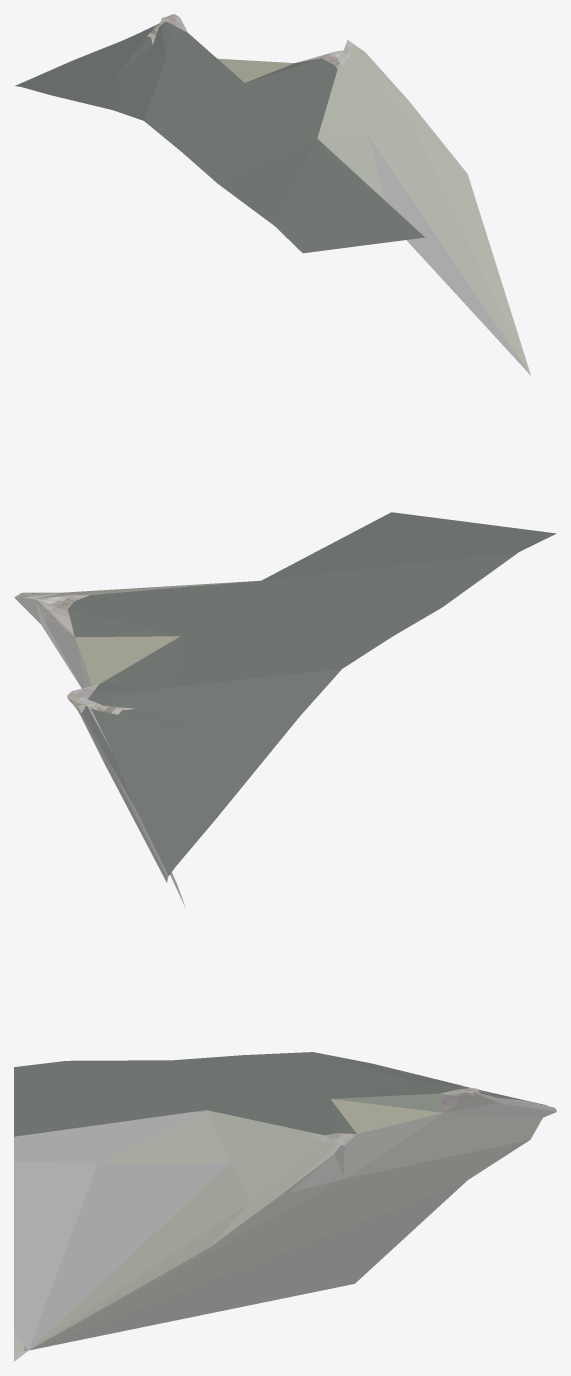
3 views of the same model, one above another, from view 1: azimuth 30°, elevation 25°; view 2: azimuth 150°, elevation 25°; view 3: azimuth 270°, elevation 25° (orthographic). The views are drawn at different scales.
Size of the model in its own units: 0.8033 by 0.7476 by 1.5.
1 material, 1 textured.
